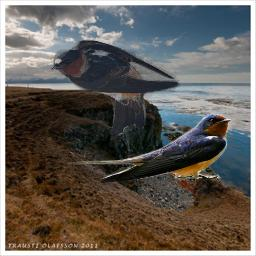Swallow: (50, 38, 181, 136), (66, 112, 232, 183)
